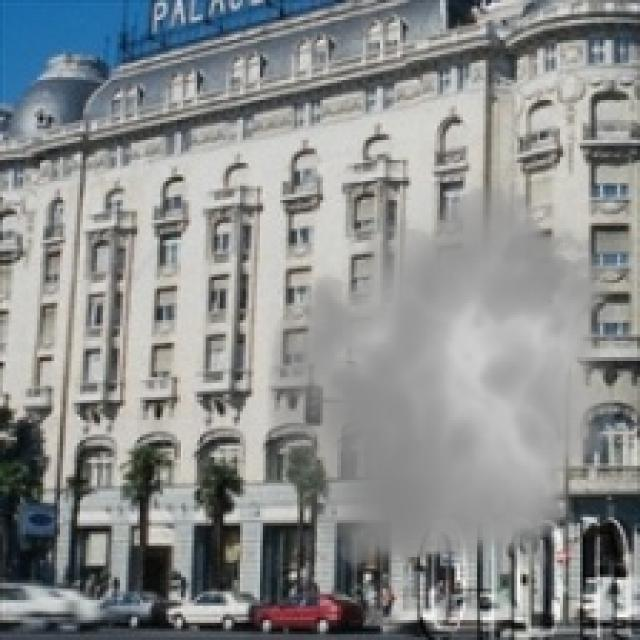Smoke: (254, 168, 632, 588)
